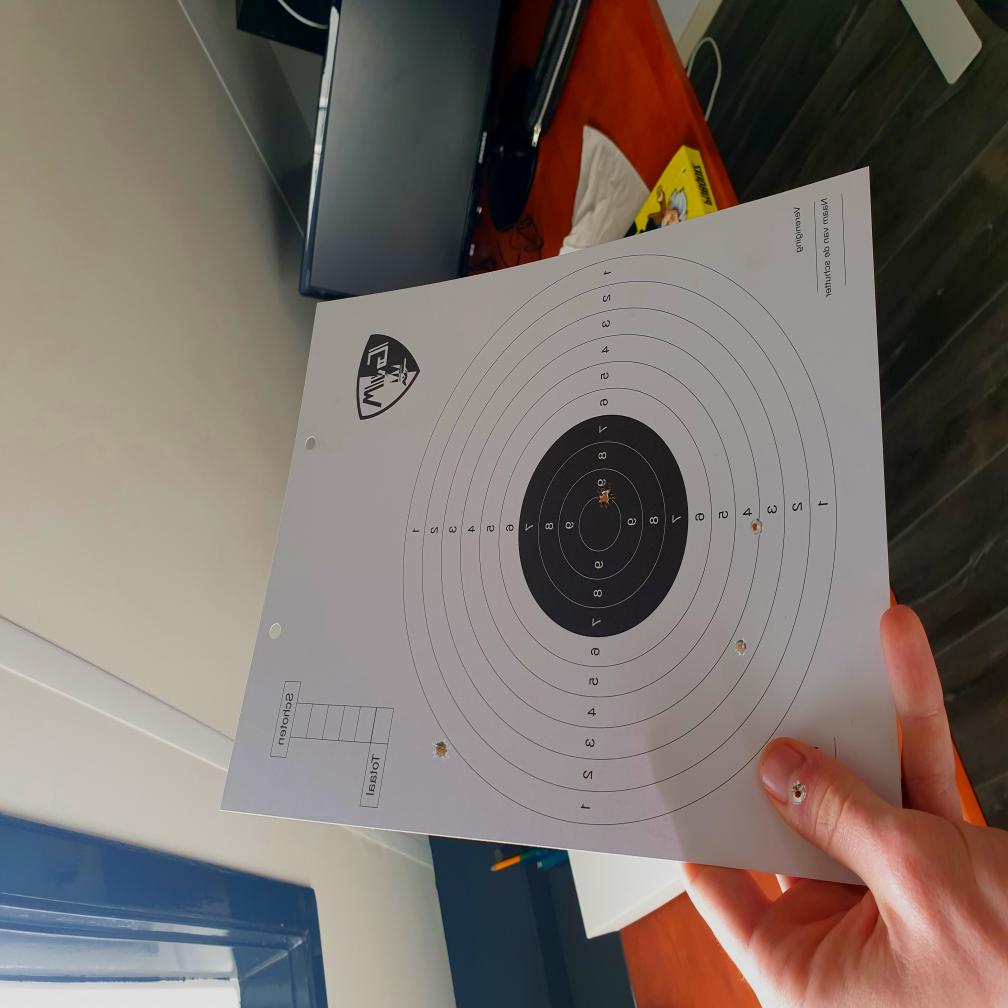0: (431, 740, 451, 762)
10: (596, 481, 615, 508)
3: (733, 639, 747, 658)
4: (750, 518, 763, 536)
Target: (402, 255, 837, 827)
black_contour: (518, 415, 688, 637)
